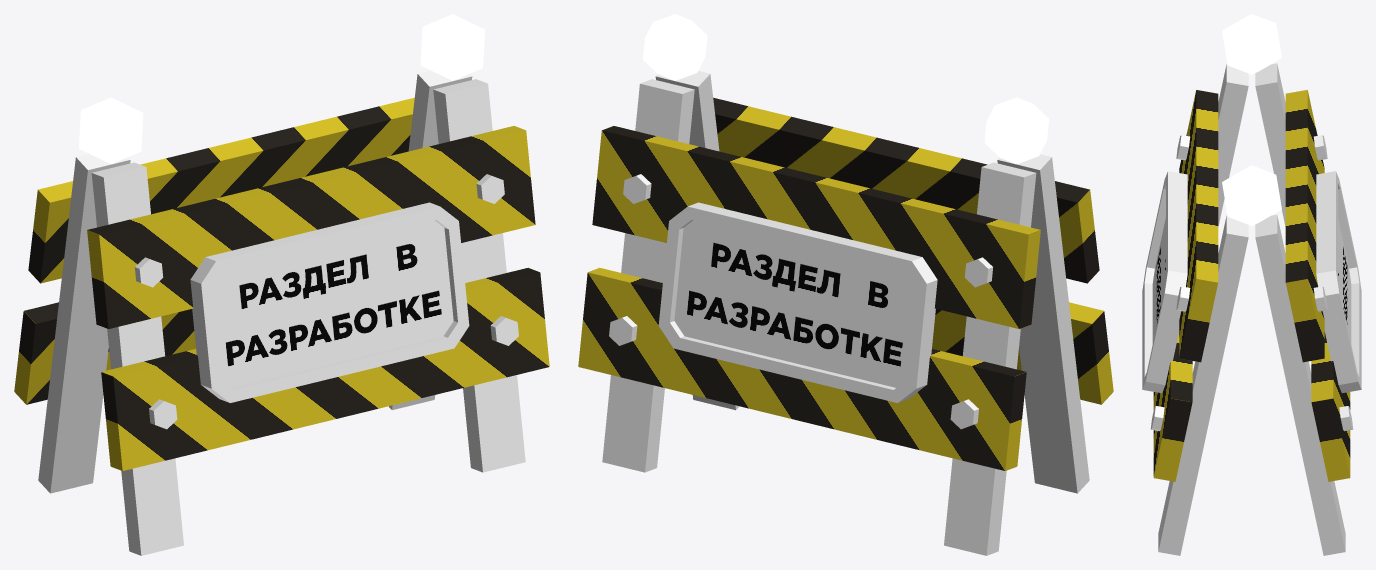
File: fence.glb
The picture shows the model from 3 angles, left to right: view 1: azimuth 30°, elevation 25°; view 2: azimuth 150°, elevation 25°; view 3: azimuth 270°, elevation 25°; orthographic projection. The views are drawn at different scales.
Parts seen in each view (by area): view 1: Cube, Cube.001, Cube.002, Cube.003, Cube.005, Cube.007, Cube.006, Icosphere.001, Icosphere, Cylinder, Cylinder.001, Cylinder.003 (+1 smaller); view 2: Cube.004, Cube.005, Cube.006, Cube.007, Cube.001, Cube.003, Cube.002, Icosphere.001, Icosphere, Cylinder.006, Cylinder.005, Cylinder.007 (+1 smaller); view 3: Cube.007, Cube.003, Cube.001, Cube.005, Cube, Cube.004, Cube.002, Cube.006, Icosphere, Icosphere.001.
Part boxes in pixels (x1,y1,x2,y2): Cube: [190, 202, 469, 402]; Cube.001: [87, 126, 535, 328]; Cube.002: [101, 267, 549, 470]; Cube.003: [91, 79, 525, 555]; Cube.005: [28, 97, 414, 283]; Cube.007: [38, 70, 472, 493]; Cube.006: [14, 302, 195, 404]; Icosphere.001: [79, 97, 143, 164]; Icosphere: [420, 14, 484, 80]; Cylinder: [476, 174, 504, 203]; Cylinder.001: [490, 316, 518, 345]; Cylinder.003: [149, 399, 177, 429]; Cube.004: [658, 202, 937, 402]; Cube.005: [592, 126, 1040, 328]; Cube.006: [578, 267, 1026, 470]; Cube.007: [602, 79, 1036, 555]; Cube.001: [713, 97, 1099, 283]; Cube.003: [655, 71, 1089, 493]; Cube.002: [932, 302, 1113, 404]; Icosphere.001: [984, 97, 1048, 164]; Icosphere: [643, 14, 707, 80]; Cylinder.006: [623, 174, 651, 203]; Cylinder.005: [950, 399, 978, 429]; Cylinder.007: [609, 316, 637, 345]; Cube.007: [1255, 63, 1345, 555]; Cube.003: [1158, 63, 1248, 555]; Cube.001: [1179, 90, 1218, 362]; Cube.005: [1285, 90, 1324, 362]; Cube: [1142, 171, 1187, 393]; Cube.004: [1316, 171, 1361, 393]; Cube.002: [1153, 332, 1192, 481]; Cube.006: [1311, 332, 1350, 481]; Icosphere: [1222, 165, 1281, 225]; Icosphere.001: [1222, 14, 1281, 74].
Bounding box in the file's own units: 10 × 9.4 × 4.9.
5 materials, 2 textured.
